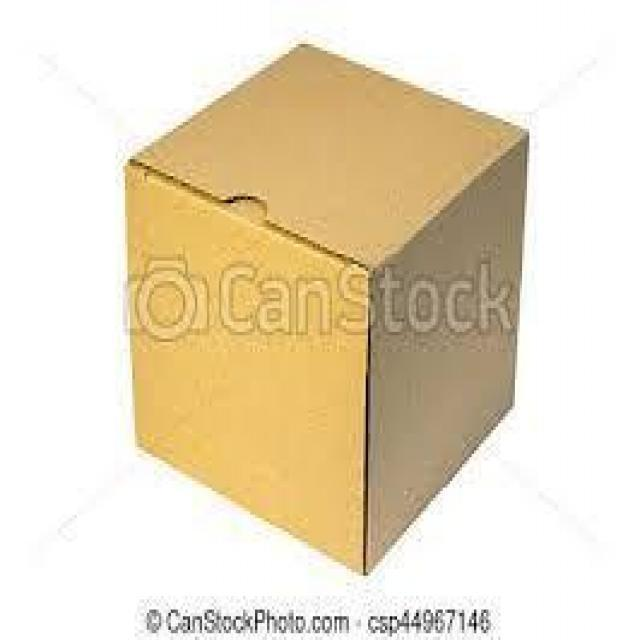box: (123, 41, 529, 576)
